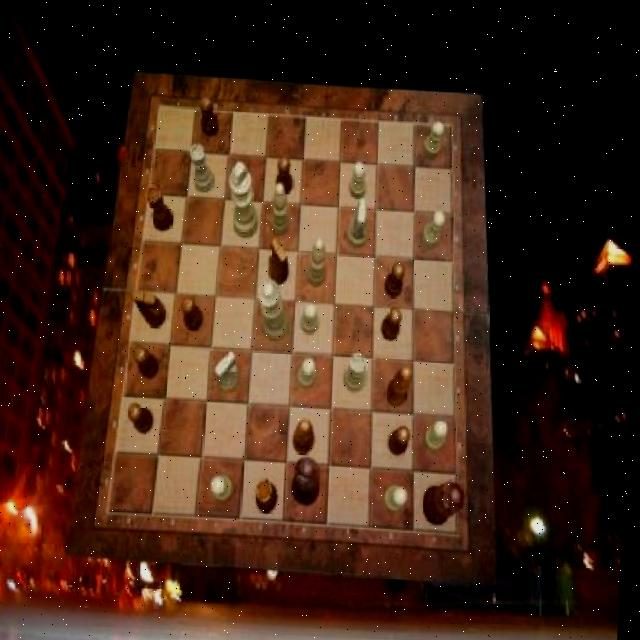bishop: (389, 361, 415, 402), (296, 415, 320, 452)
black-bishop: (295, 454, 324, 503)
black-king: (135, 290, 170, 327), (271, 236, 292, 282)
black-knight: (199, 95, 220, 135), (131, 402, 157, 434), (137, 345, 162, 378), (387, 258, 408, 295), (184, 294, 206, 329), (385, 303, 406, 337), (278, 153, 296, 192), (392, 422, 415, 452)
black-pawn: (425, 475, 469, 523)
black-queen: (147, 184, 176, 230), (259, 476, 283, 511)
black-rook: (272, 180, 293, 234), (309, 234, 331, 284)
white-bishop: (229, 159, 261, 236)
white-king: (349, 194, 371, 246), (218, 348, 244, 391)
white-knight: (424, 206, 448, 244), (423, 117, 445, 155), (427, 415, 451, 448), (352, 158, 370, 195), (303, 299, 323, 332), (300, 354, 320, 386), (389, 482, 412, 509), (215, 472, 236, 499)
white-pawn: (259, 277, 292, 338)
white-queen: (190, 144, 216, 192), (346, 349, 369, 390)
